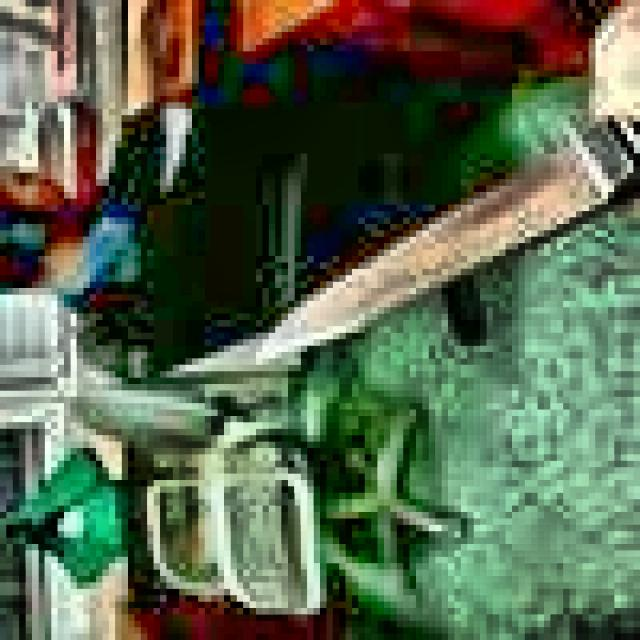knife: (257, 119, 634, 364)
